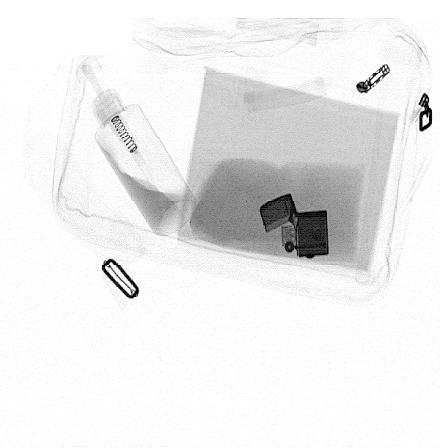Lighter: (260, 193, 329, 258)
